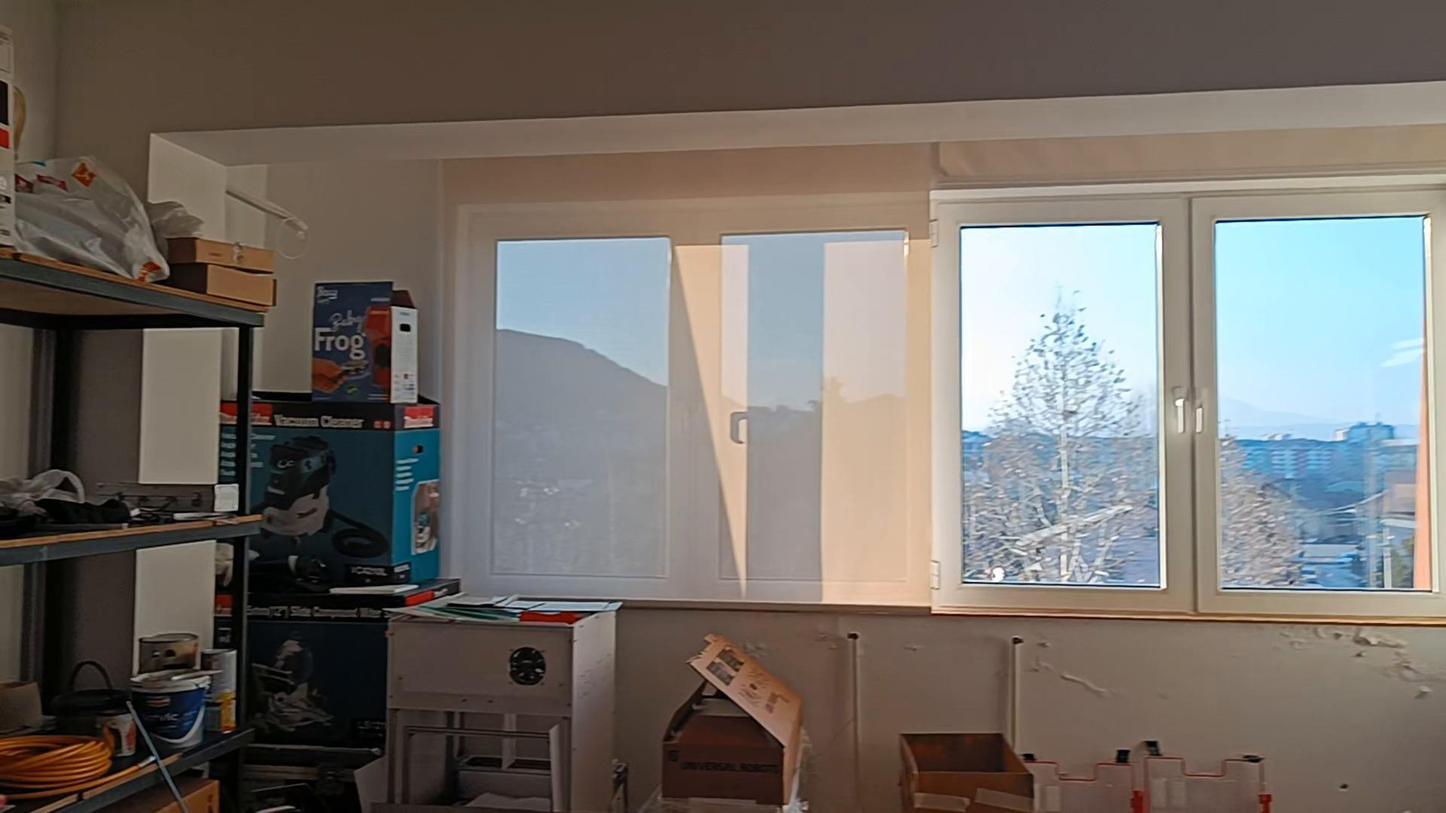wall: (64, 5, 1443, 386), (620, 617, 1445, 807)
